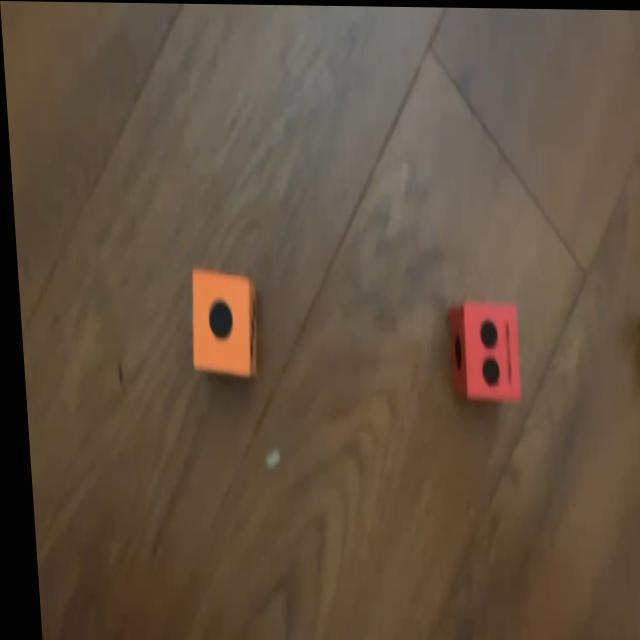red_block: (446, 301, 519, 398)
